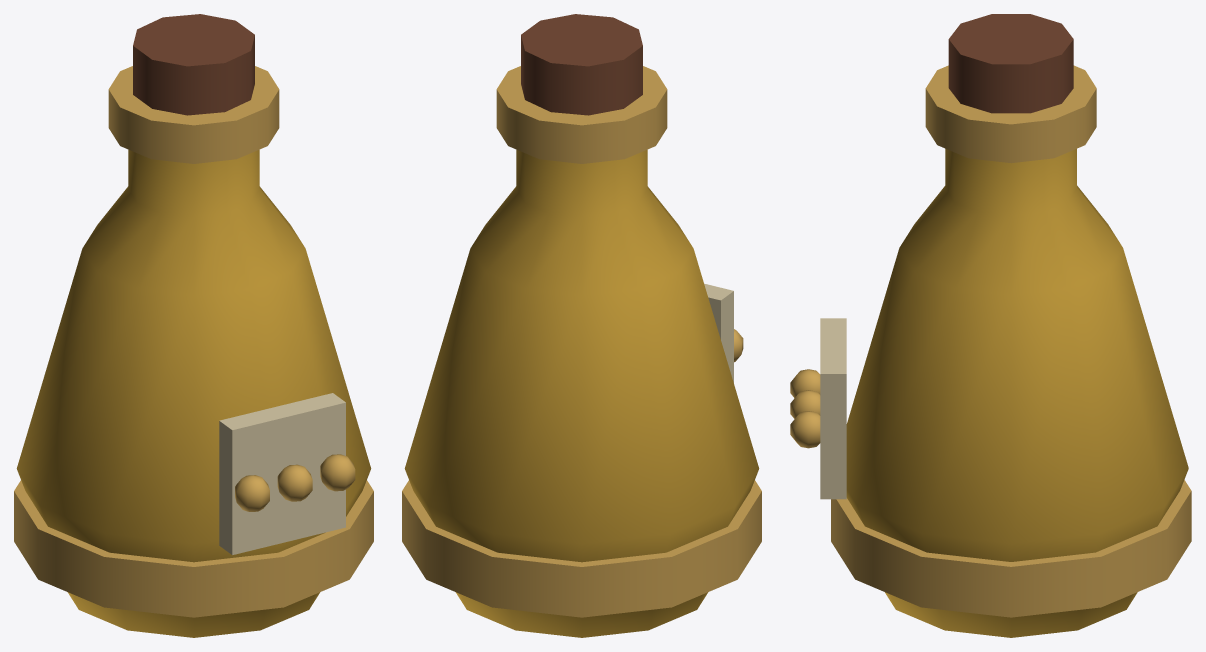
The model's file is elixir.fbx.
3 views of the same model, side by side, from view 1: azimuth 30°, elevation 25°; view 2: azimuth 150°, elevation 25°; view 3: azimuth 270°, elevation 25° (orthographic).
Parts seen in each view (by area): view 1: elixir; view 2: elixir; view 3: elixir.
Boxes of the visible parts, x1,y1,x2,y2 form: elixir: (14, 14, 373, 637); elixir: (402, 14, 761, 637); elixir: (790, 14, 1191, 637).
Bounding box in the file's own units: 0.5481 × 0.91 × 0.6096.
